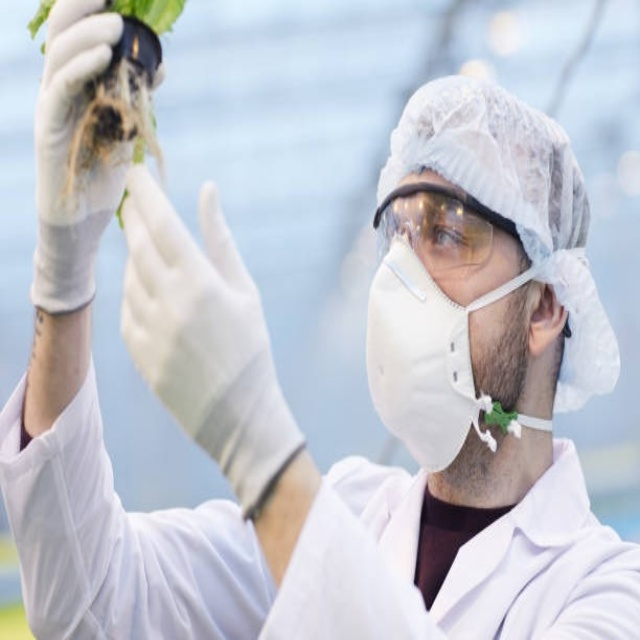Gafas: (375, 186, 526, 272)
Guantes: (119, 164, 308, 516), (29, 0, 158, 313)
Mascara: (367, 238, 560, 473)
